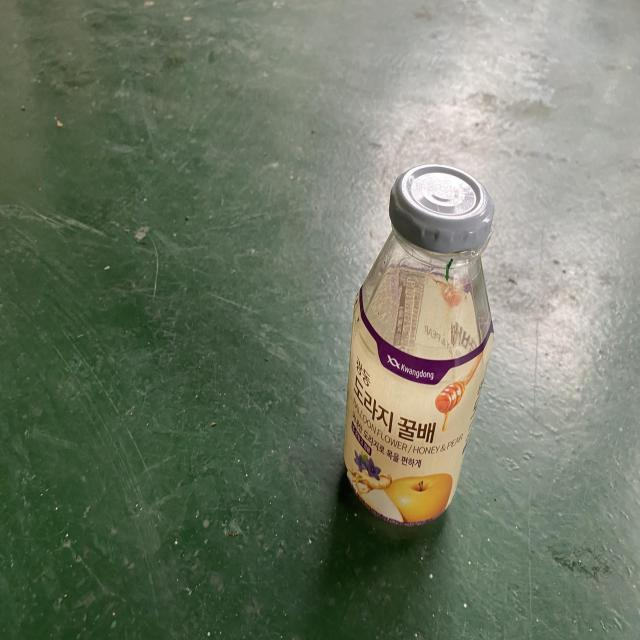glass: (345, 164, 495, 524)
